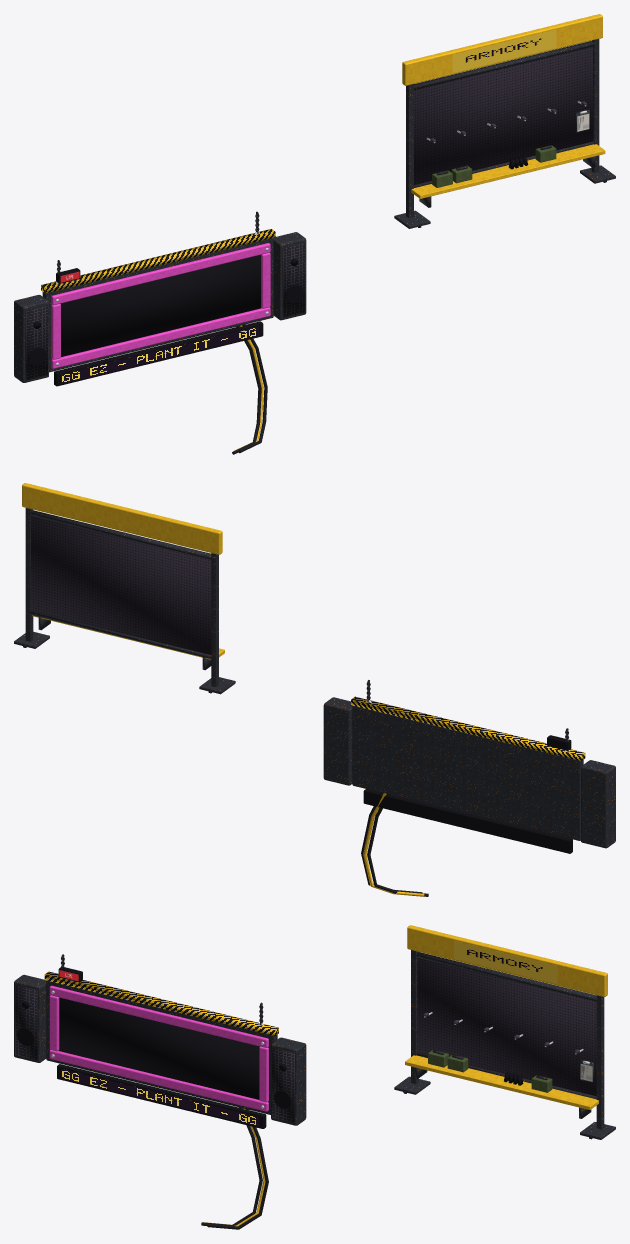
File: x_lobby_hangarprops.glb
3 renders of one model, top to bottom at view 1: azimuth 30°, elevation 25°; view 2: azimuth 150°, elevation 25°; view 3: azimuth 330°, elevation 25°, orthographic.
Parts seen in each view (by area): view 1: screenframe, gunrack; view 2: screenframe, gunrack; view 3: screenframe, gunrack.
Boxes of the visible parts, x1,y1,x2,y2 form: screenframe: [14, 211, 306, 454]; gunrack: [394, 14, 615, 228]; screenframe: [323, 680, 615, 896]; gunrack: [14, 483, 235, 694]; screenframe: [14, 954, 306, 1229]; gunrack: [394, 925, 615, 1139].
Size of the model in its own units: 13.69 by 7.36 by 0.987.
13 materials, 10 textured.
